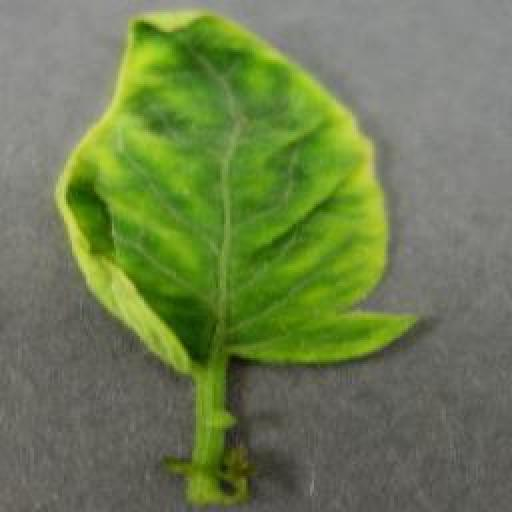Yellow Leaf Curl Virus: (58, 7, 416, 381)
